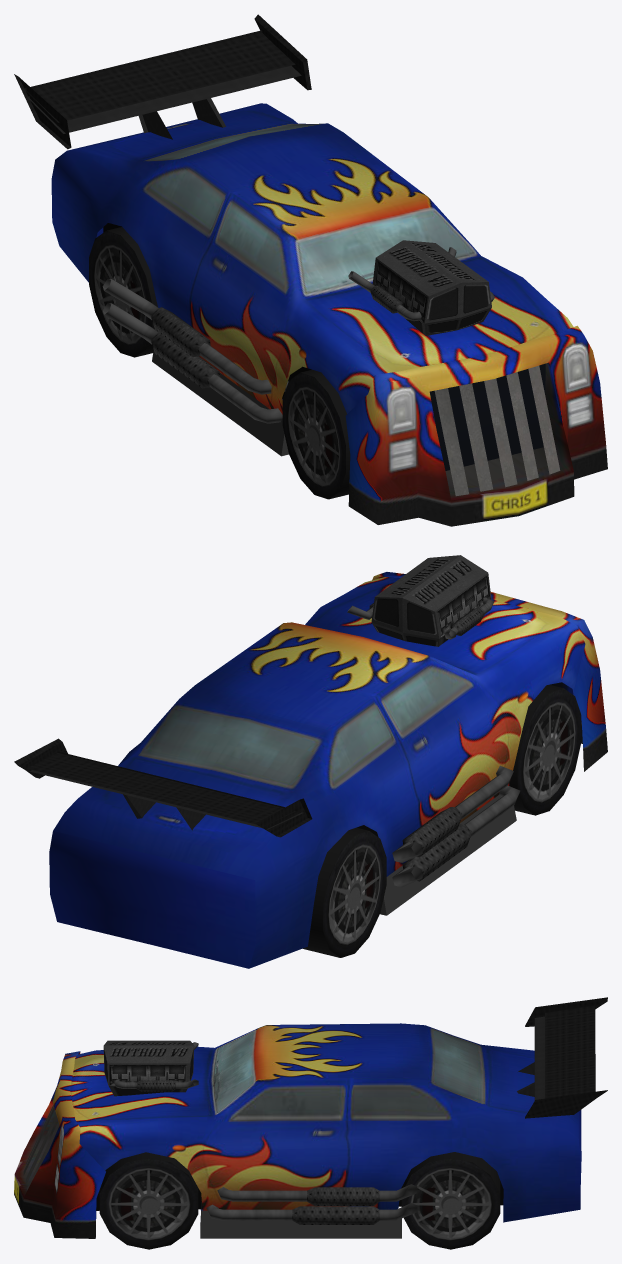
Rendered from hotrod2.dae.
The picture shows the model from 3 angles, top to bottom: view 1: azimuth 30°, elevation 25°; view 2: azimuth 150°, elevation 25°; view 3: azimuth 270°, elevation 25°; orthographic projection. The views are drawn at different scales.
Visible parts, largest first — view 1: polySurface25, polySurface49, polySurface29, polySurface62, polySurface50, polySurface51, polySurface63, polySurface59; view 2: polySurface25, polySurface29, polySurface49, polySurface62, polySurface50, polySurface51, polySurface63, polySurface59; view 3: polySurface25, polySurface29, polySurface49, polySurface62, polySurface63, polySurface52, polySurface53, polySurface61.
Boxes of the visible parts, <box> form: polySurface25: <box>51,103,607,526</box>; polySurface49: <box>14,14,311,149</box>; polySurface29: <box>89,227,350,499</box>; polySurface62: <box>372,240,491,335</box>; polySurface50: <box>103,303,282,423</box>; polySurface51: <box>102,279,288,394</box>; polySurface63: <box>152,350,288,456</box>; polySurface59: <box>348,271,421,321</box>; polySurface25: <box>49,572,607,968</box>; polySurface29: <box>303,684,581,957</box>; polySurface49: <box>14,738,312,837</box>; polySurface62: <box>371,555,491,646</box>; polySurface50: <box>392,786,520,887</box>; polySurface51: <box>392,765,513,862</box>; polySurface63: <box>380,794,516,915</box>; polySurface59: <box>444,597,494,639</box>; polySurface25: <box>14,1023,581,1238</box>; polySurface29: <box>99,1152,500,1249</box>; polySurface49: <box>517,997,607,1118</box>; polySurface62: <box>103,1040,194,1096</box>; polySurface63: <box>200,1202,401,1238</box>; polySurface52: <box>206,1203,417,1224</box>; polySurface53: <box>217,1184,417,1205</box>; polySurface61: <box>114,1079,198,1091</box>.
Bounding box in the file's own units: 13.11 × 8.09 × 27.1.
